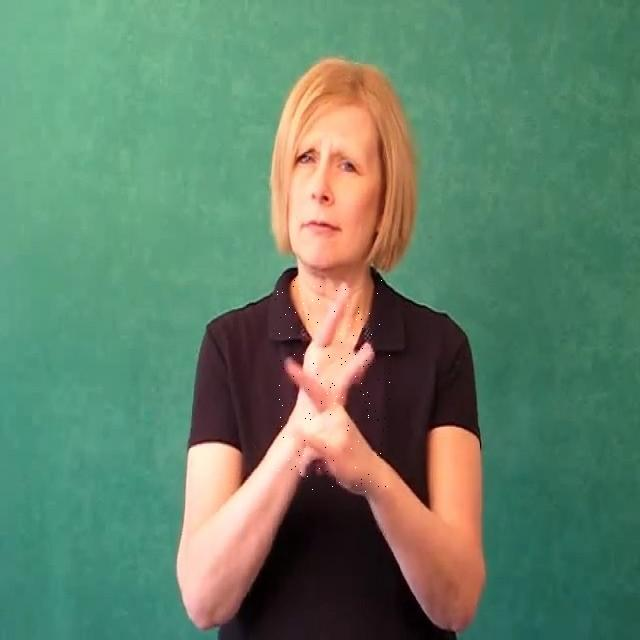alcohol: (274, 280, 390, 492)
